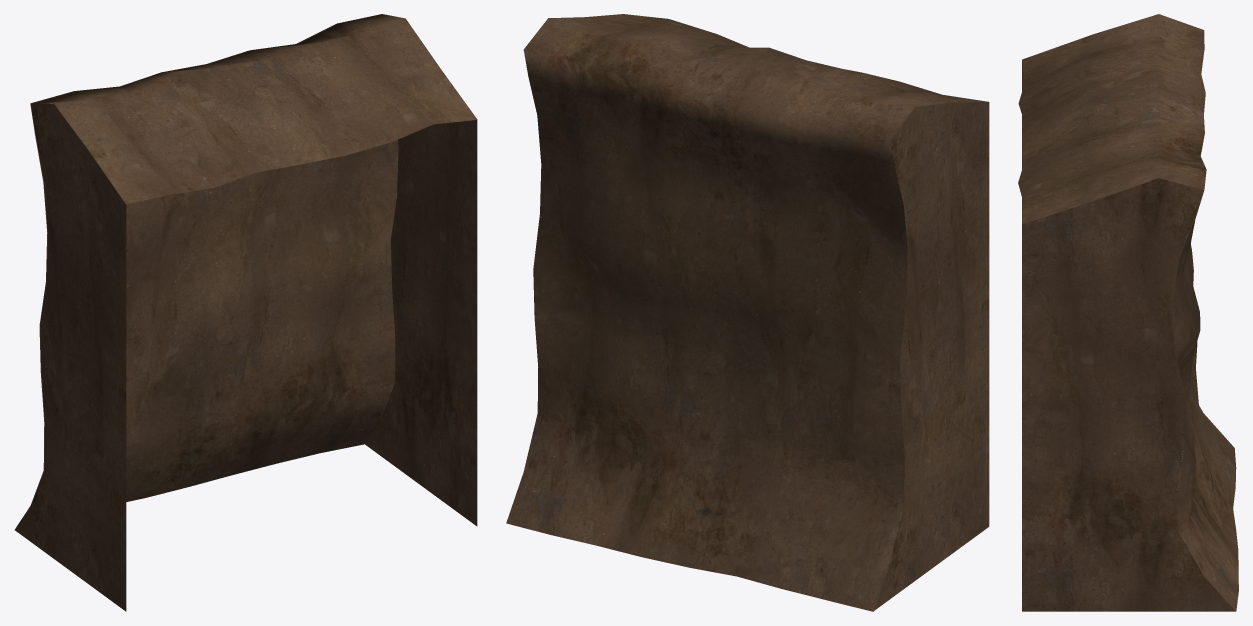
File: S7U_EarthBank_2m_D_LOD1.fbx
3 views of the same model, side by side, from view 1: azimuth 30°, elevation 25°; view 2: azimuth 150°, elevation 25°; view 3: azimuth 270°, elevation 25° (orthographic). The views are drawn at different scales.
Visible parts, largest first — view 1: S7U_EarthBank_2m_D_LOD1; view 2: S7U_EarthBank_2m_D_LOD1; view 3: S7U_EarthBank_2m_D_LOD1.
Part boxes in pixels (bbox=[...]): S7U_EarthBank_2m_D_LOD1: bbox=[14, 14, 477, 611]; S7U_EarthBank_2m_D_LOD1: bbox=[506, 14, 989, 611]; S7U_EarthBank_2m_D_LOD1: bbox=[1018, 14, 1238, 611].
Size of the model in its own units: 2 by 2.49 by 1.14.
